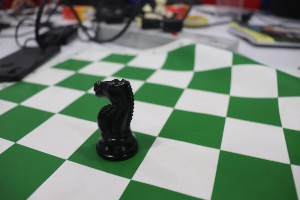black_horse: (82, 66, 141, 168)
